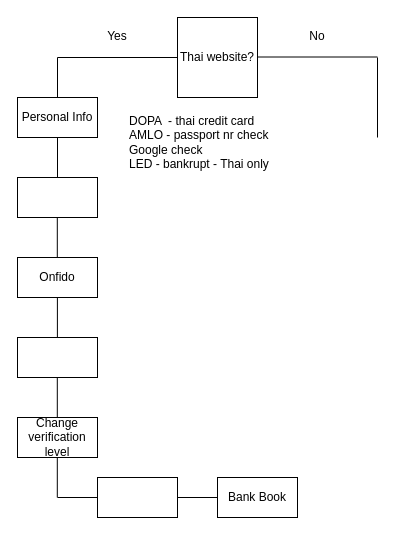
Some shapes in this 396 by 535 pixel diagram are drawn without their labels. Each missing label, with the centre of its shape:
KYC finished: (137,497)
Set to Pass: (57,357)
Suitability Test: (57,197)
